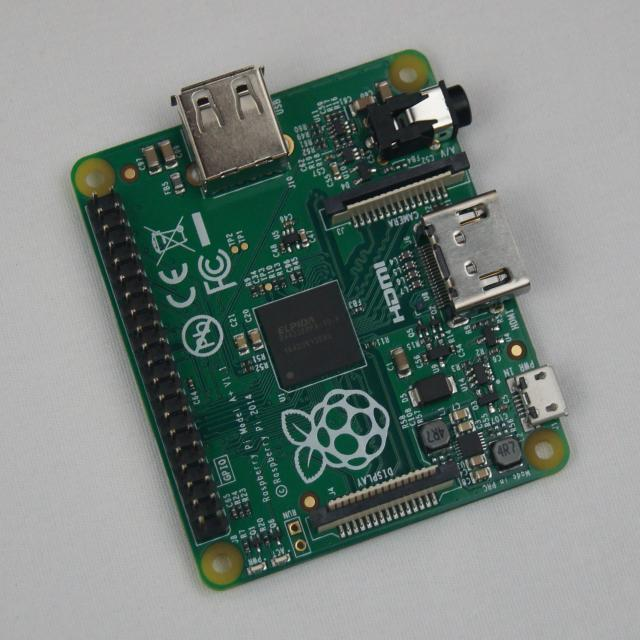Raspberry-Pi-1-A-: (73, 51, 569, 588)
